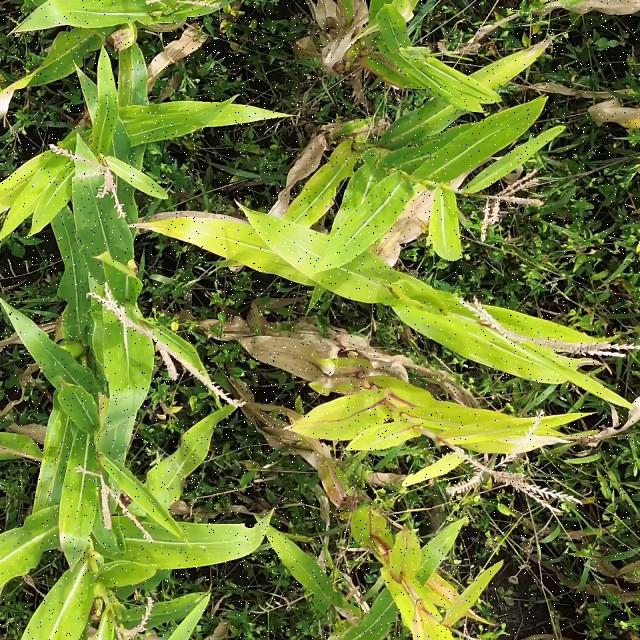gray-leaf-spot: (117, 55, 145, 103)
northern-leaf-blight: (316, 462, 357, 501)
southern-leaf-blight: (180, 425, 212, 466), (46, 430, 76, 457)
